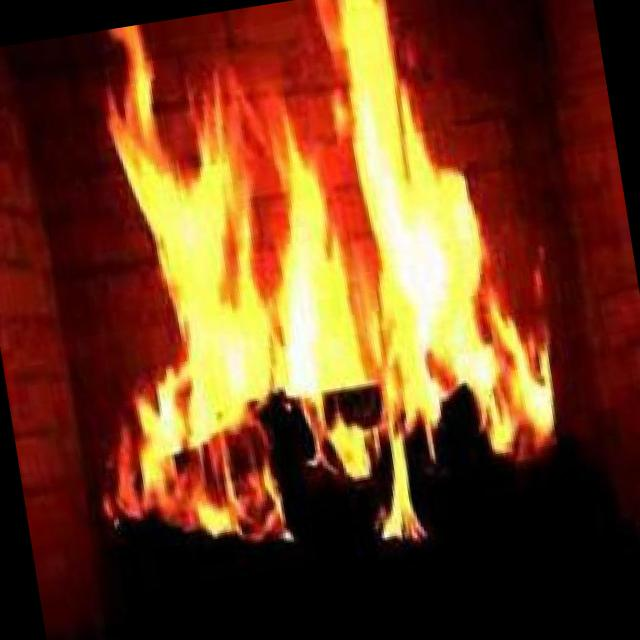Fire: (20, 0, 588, 595)
